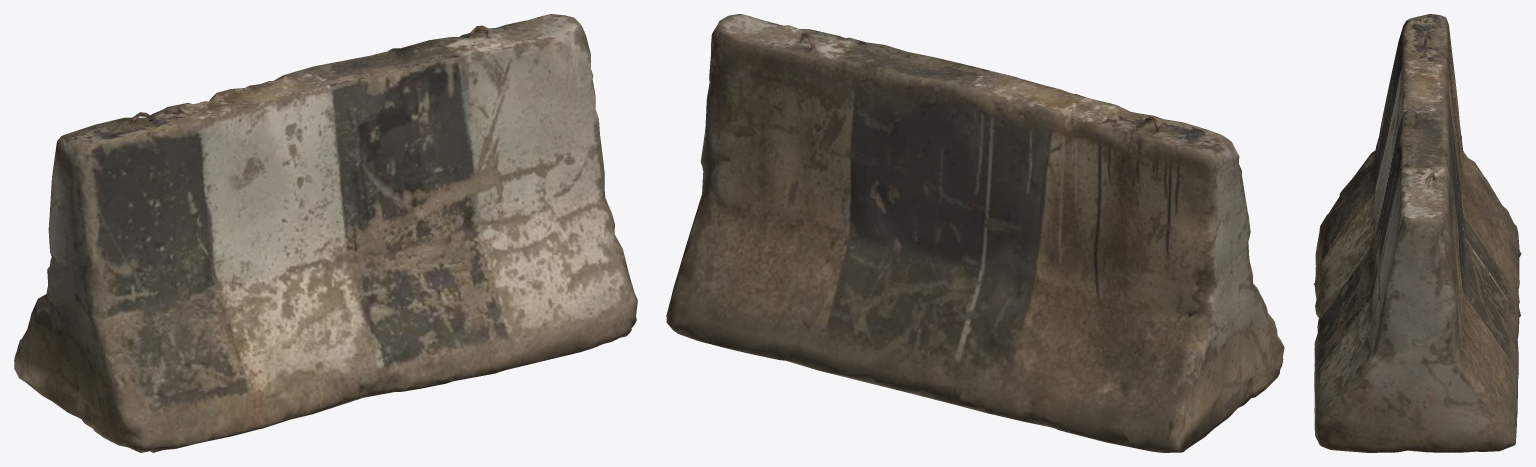
Rendered from barrier.glb.
The picture shows the model from 3 angles, left to right: view 1: azimuth 30°, elevation 25°; view 2: azimuth 150°, elevation 25°; view 3: azimuth 270°, elevation 25°; orthographic projection. The views are drawn at different scales.
Visible parts, largest first — view 1: concrete_road_barrier; view 2: concrete_road_barrier; view 3: concrete_road_barrier.
Part boxes in pixels (x1=…): concrete_road_barrier: x1=14, y1=14, x2=637, y2=452; concrete_road_barrier: x1=666, y1=14, x2=1284, y2=452; concrete_road_barrier: x1=1313, y1=14, x2=1521, y2=452.
Size of the model in its own units: 1.54 by 0.8303 by 0.6388.
Materials: 1 (1 with a texture image).
